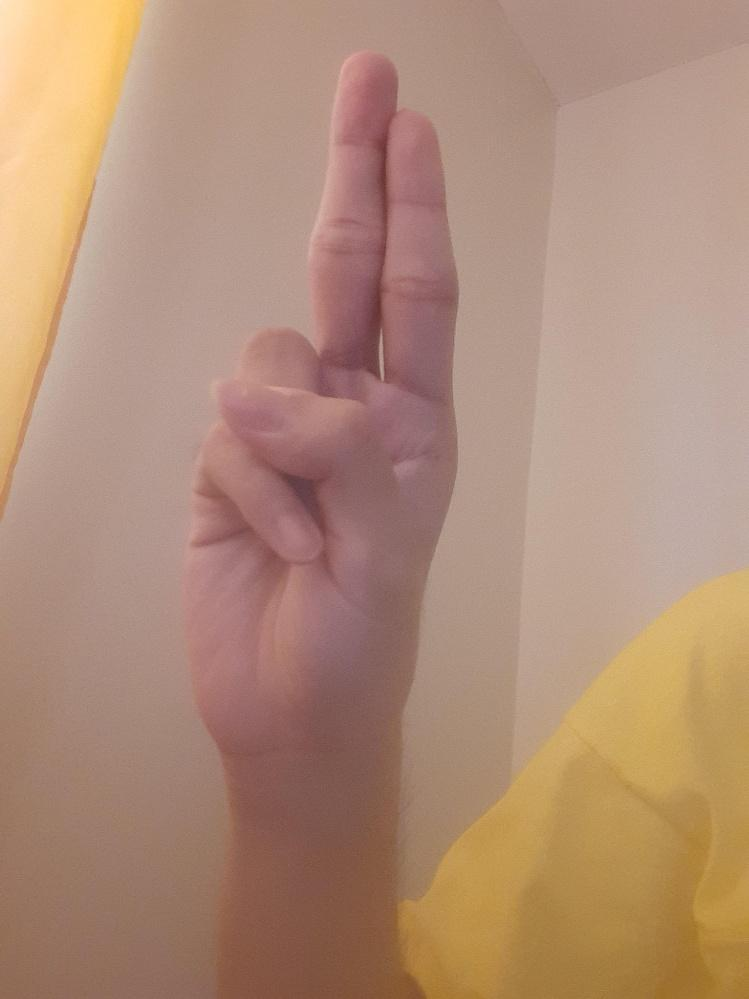u: (184, 49, 456, 729)
